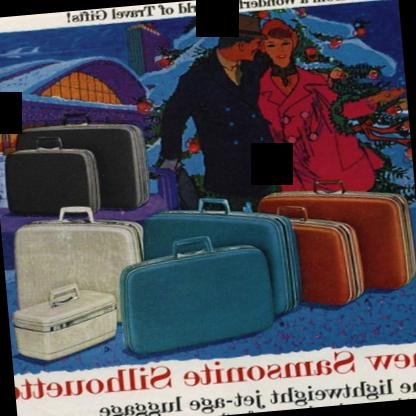suitcase: (143, 195, 308, 317), (117, 235, 269, 358), (254, 178, 416, 292), (17, 205, 146, 310), (18, 115, 148, 211), (269, 206, 366, 308), (1, 136, 101, 216), (12, 286, 118, 360)
